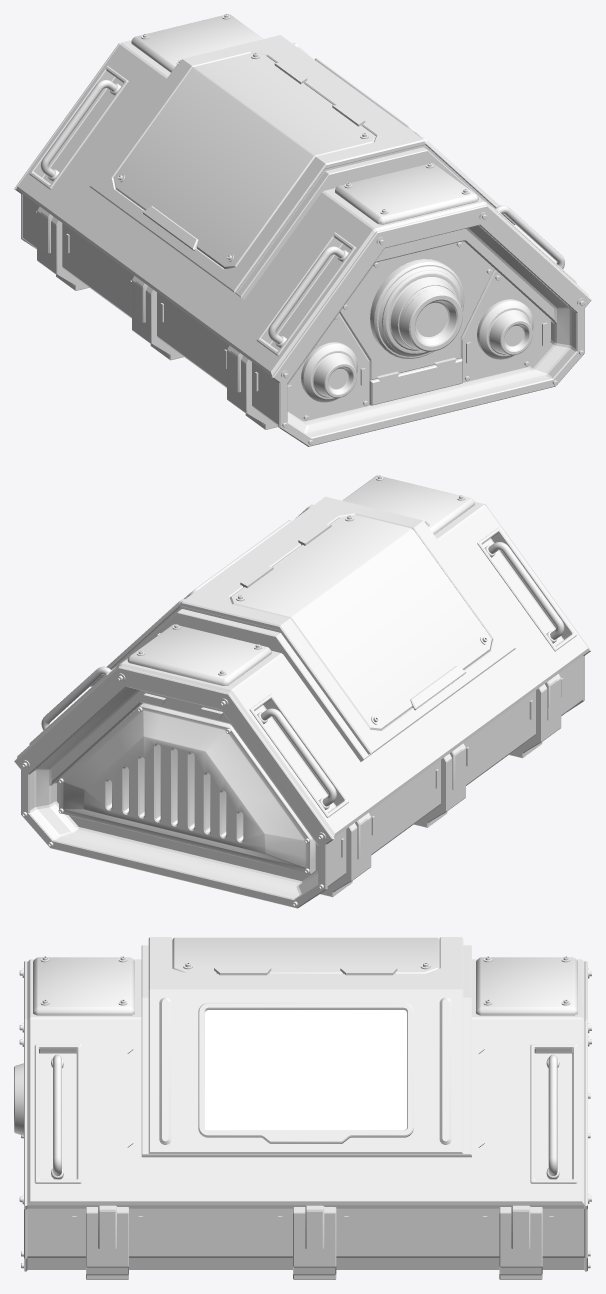
Rendered from KB3D_FTW_PropGenerator_C_grp.glb.
The picture shows the model from 3 angles, top to bottom: view 1: azimuth 30°, elevation 25°; view 2: azimuth 150°, elevation 25°; view 3: azimuth 270°, elevation 25°; orthographic projection. The views are drawn at different scales.
Parts seen in each view (by area): view 1: KB3D_FTW_PropGenerator_C_Main; view 2: KB3D_FTW_PropGenerator_C_Main; view 3: KB3D_FTW_PropGenerator_C_Main.
Boxes of the visible parts, <box> form: KB3D_FTW_PropGenerator_C_Main: <box>14,14,591,446</box>; KB3D_FTW_PropGenerator_C_Main: <box>14,475,591,908</box>; KB3D_FTW_PropGenerator_C_Main: <box>14,937,591,1279</box>.
Bounding box in the file's own units: 0.928 × 0.6277 × 1.33.
Materials: 9 (2 with a texture image).
